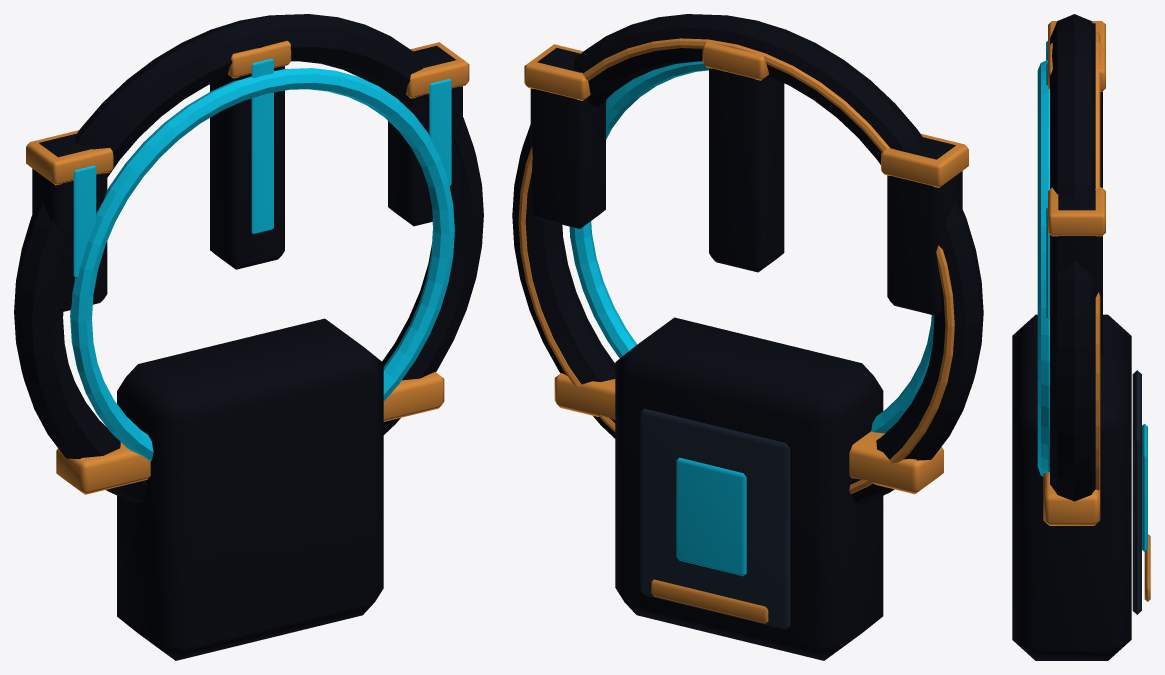
The model's file is ascendant-halo-backpiece.glb.
3 renders of one model, left to right at view 1: azimuth 30°, elevation 25°; view 2: azimuth 150°, elevation 25°; view 3: azimuth 270°, elevation 25°, orthographic. The views are drawn at different scales.
Visible parts, largest first — view 1: SignalArchitectAscendantBackpiece; view 2: SignalArchitectAscendantBackpiece; view 3: SignalArchitectAscendantBackpiece.
Part boxes in pixels (bbox=[...]): SignalArchitectAscendantBackpiece: bbox=[14, 14, 483, 660]; SignalArchitectAscendantBackpiece: bbox=[512, 14, 983, 660]; SignalArchitectAscendantBackpiece: bbox=[1012, 14, 1150, 660].
Bounding box in the file's own units: 0.994 × 1.23 × 0.267.
1 material, 1 textured.
